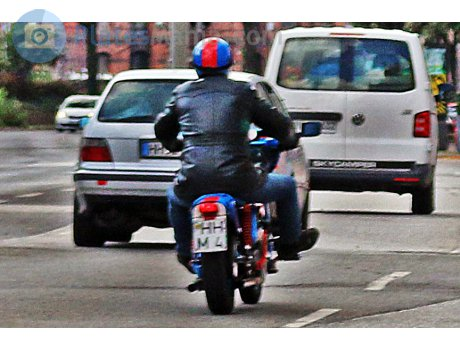License Plates: (196, 225, 222, 246)
